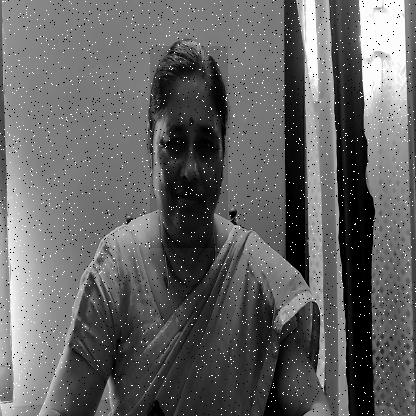Normal: (150, 46, 228, 248)
